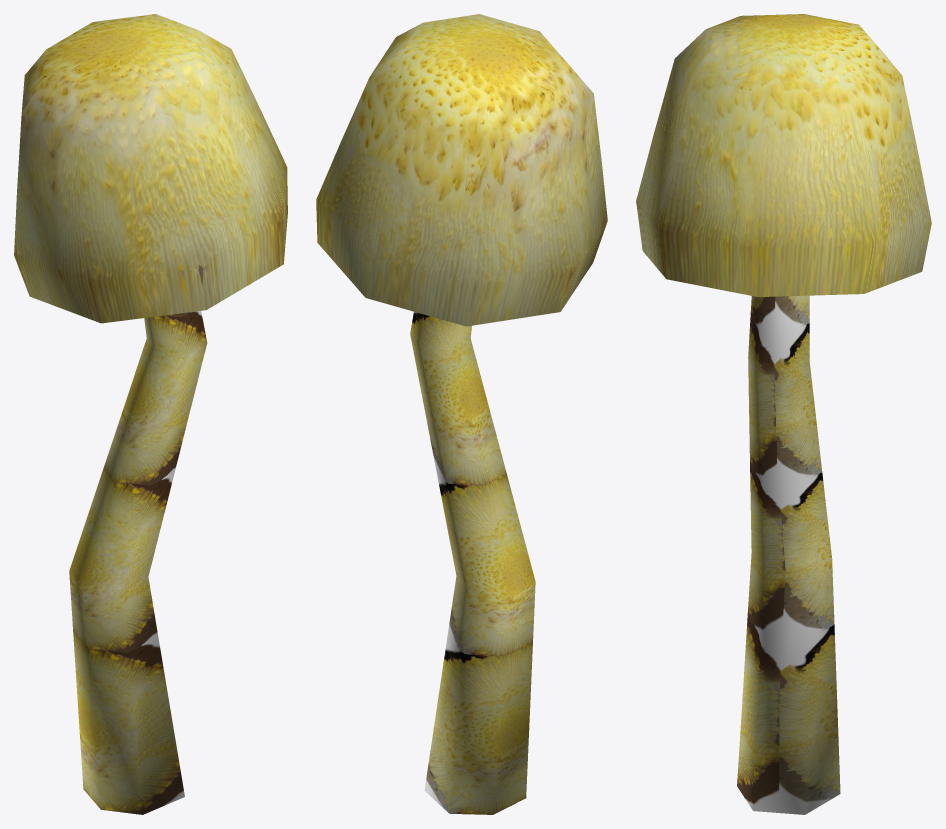
Rendered from yellow_mush.glb.
3 views of the same model, side by side, from view 1: azimuth 30°, elevation 25°; view 2: azimuth 150°, elevation 25°; view 3: azimuth 270°, elevation 25° (orthographic).
Parts seen in each view (by area): view 1: objmushroom_head, objmushroom_stem; view 2: objmushroom_head, objmushroom_stem; view 3: objmushroom_head, objmushroom_stem.
Boxes of the visible parts, left/top/right/bottom form: objmushroom_head: left=14, top=14, right=287, bottom=323; objmushroom_stem: left=69, top=311, right=207, bottom=814; objmushroom_head: left=316, top=14, right=607, bottom=326; objmushroom_stem: left=410, top=312, right=535, bottom=814; objmushroom_head: left=636, top=14, right=931, bottom=296; objmushroom_stem: left=737, top=295, right=840, bottom=814.
Bounding box in the file's own units: 6.35 × 18.47 × 6.43.
Materials: 1 (1 with a texture image).
